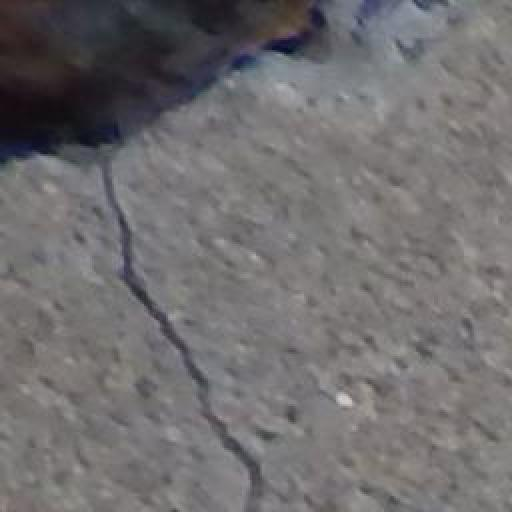spalling: (76, 155, 297, 512)
